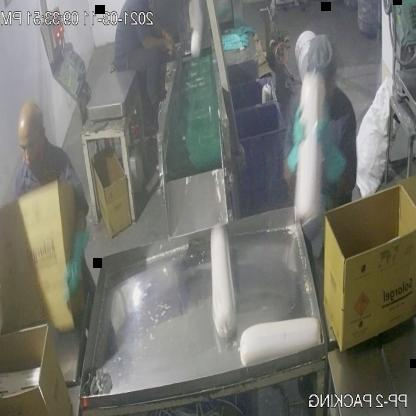glove: (59, 222, 89, 307)
no_glove: (140, 15, 179, 63)
